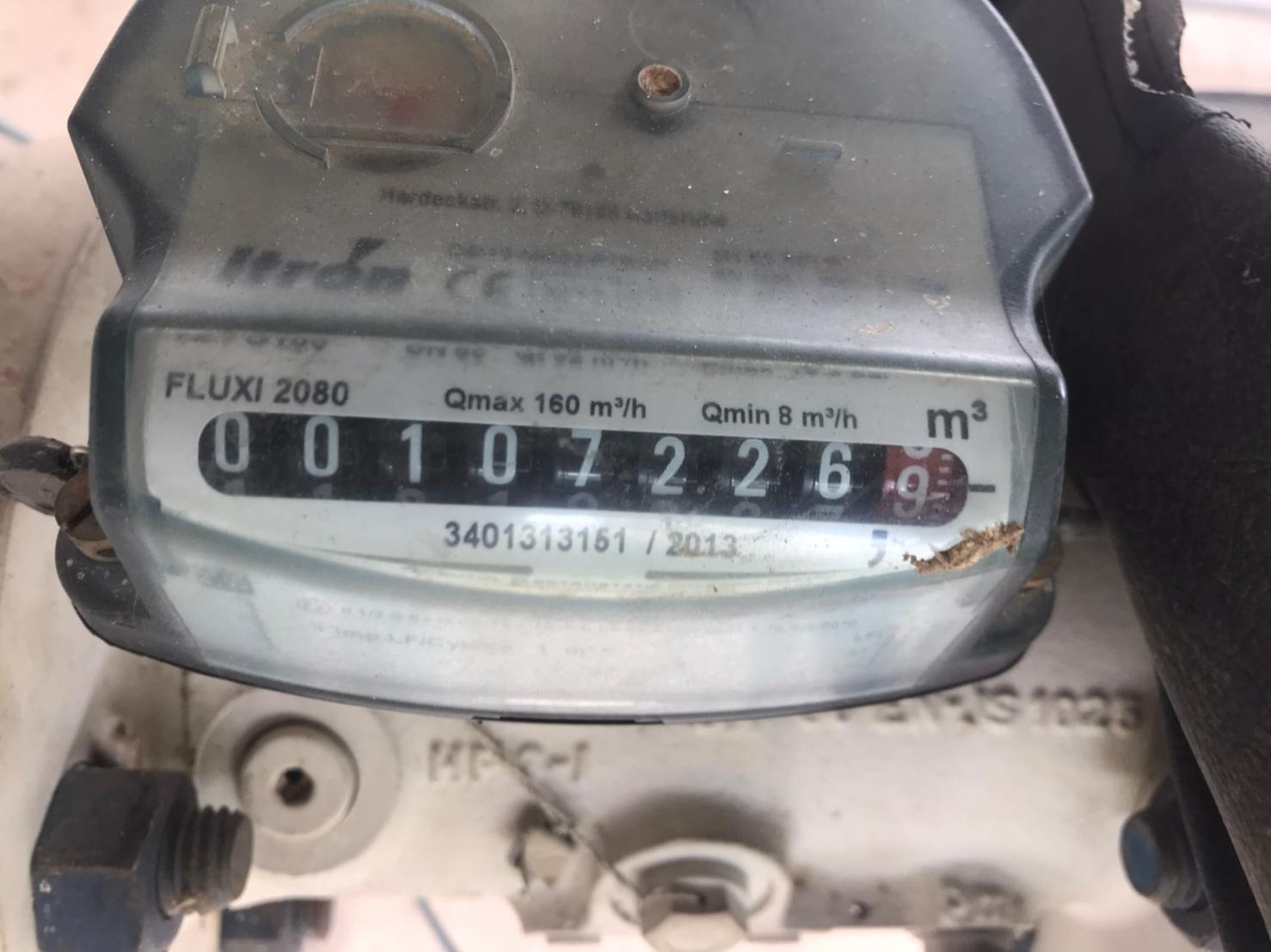analog_dial: (187, 394, 1000, 554)
